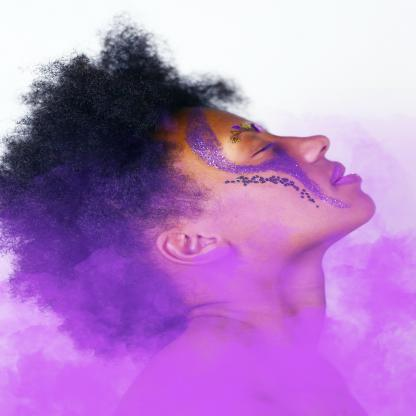Eye: (230, 128, 280, 165)
Mouth: (323, 162, 371, 195)
Nose: (269, 128, 341, 170)
